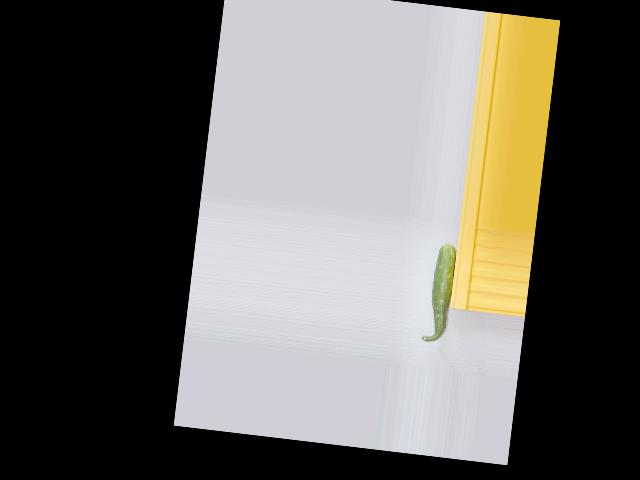cucumber: (421, 242, 457, 344)
